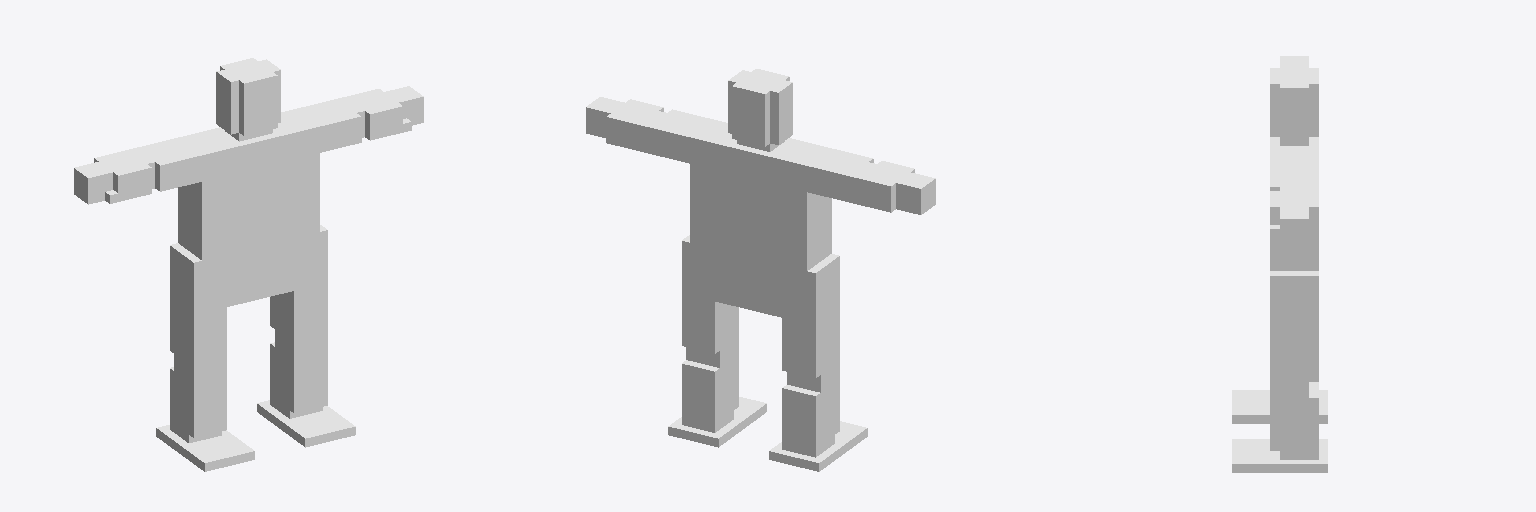
File: zembie.obj
The picture shows the model from 3 angles: view 1: azimuth 30°, elevation 25°; view 2: azimuth 150°, elevation 25°; view 3: azimuth 270°, elevation 25°; orthographic projection.
Parts seen in each view (by area): view 1: zembie; view 2: zembie; view 3: zembie.
Part boxes in pixels (left/top/right/bottom): zembie: left=74, top=58, right=423, bottom=471; zembie: left=586, top=69, right=935, bottom=471; zembie: left=1232, top=56, right=1327, bottom=472.
Bounding box in the file's own units: 40 × 41 × 10.